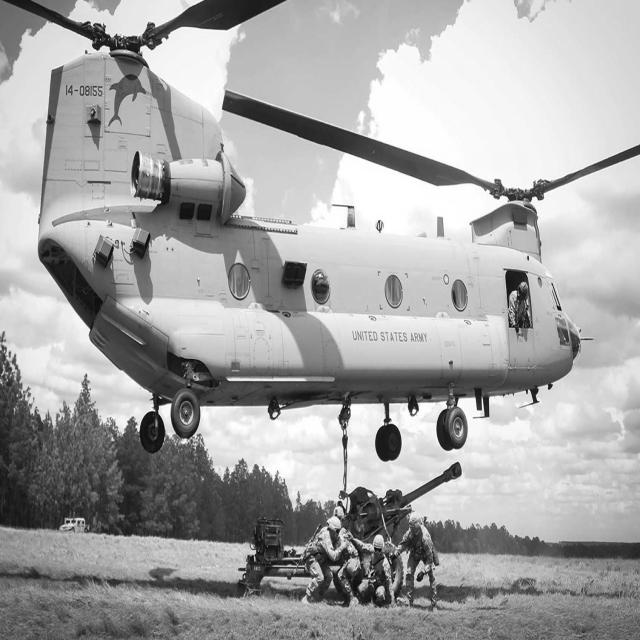helicopter: (1, 1, 635, 469)
